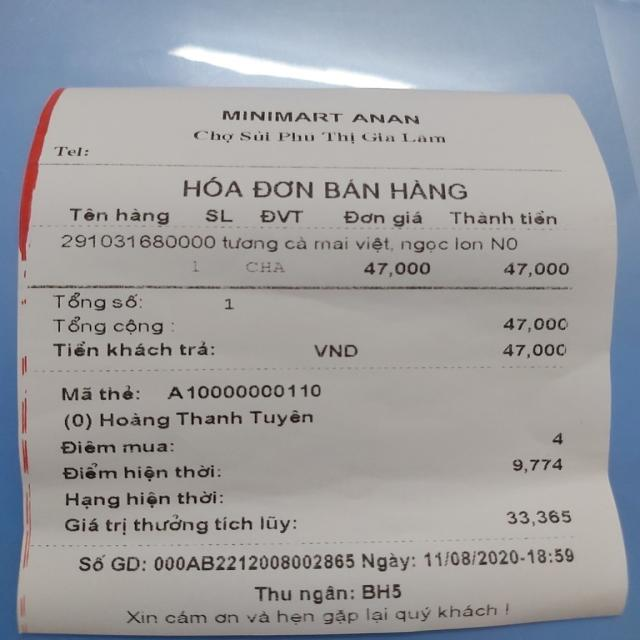Date: (419, 549, 522, 567)
Store_Name: (216, 106, 428, 131)
amount_number: (498, 312, 572, 334)
label_total: (52, 313, 167, 338)
